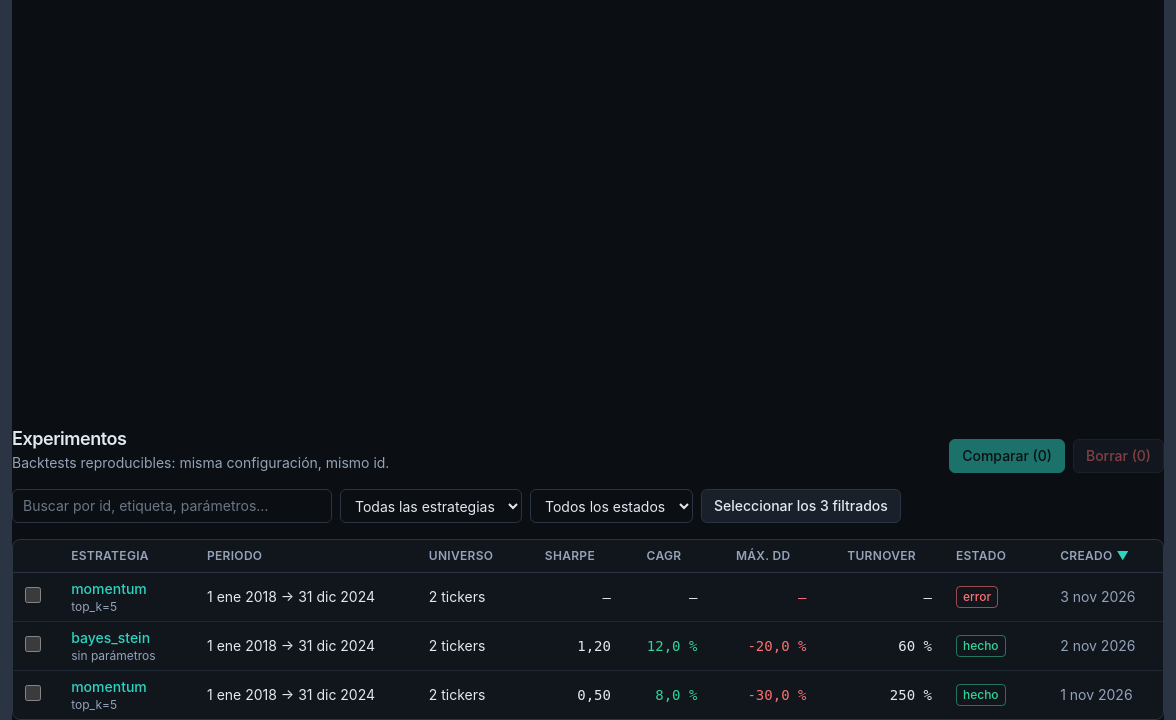
Test case: Experimentos › filtra por texto y por estado
(page scrolled)
Expected: the table named "Experimentos" is shown, [13, 540, 1163, 719]
Type "bayes" into the field labelled "Buscar" at (172, 506), box [12, 489, 332, 523]
(page scrolled)
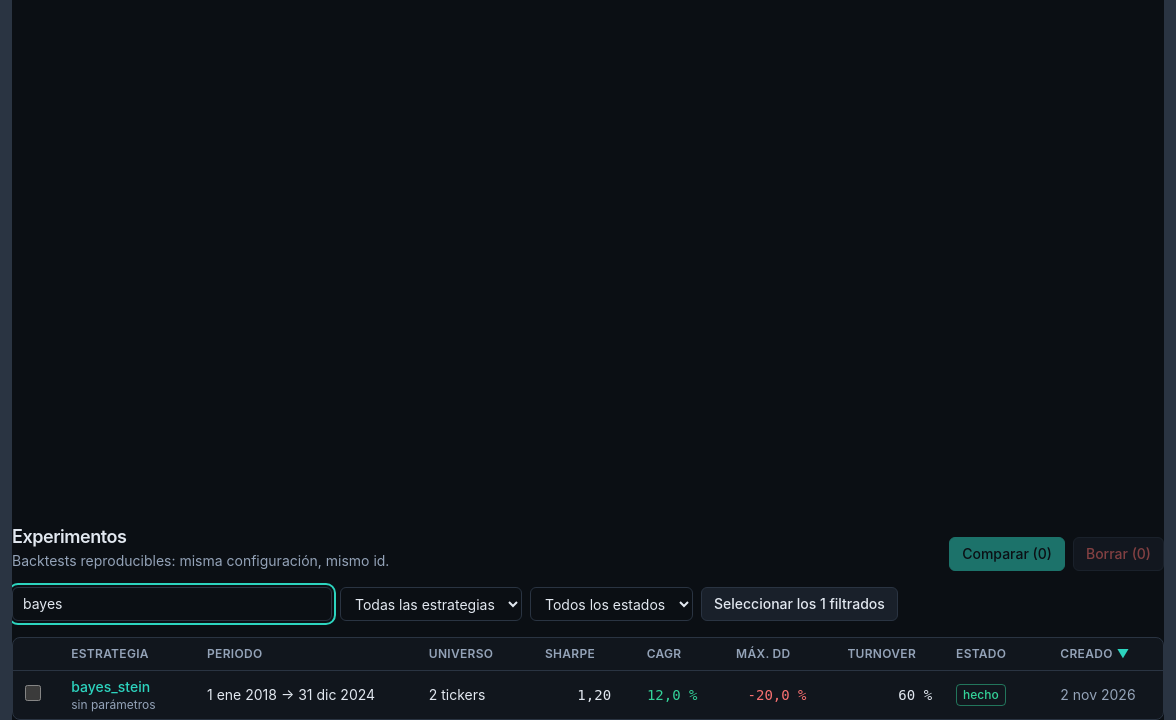
Clear the field named "Buscar" at (172, 604), box [12, 587, 332, 621]
(page scrolled)
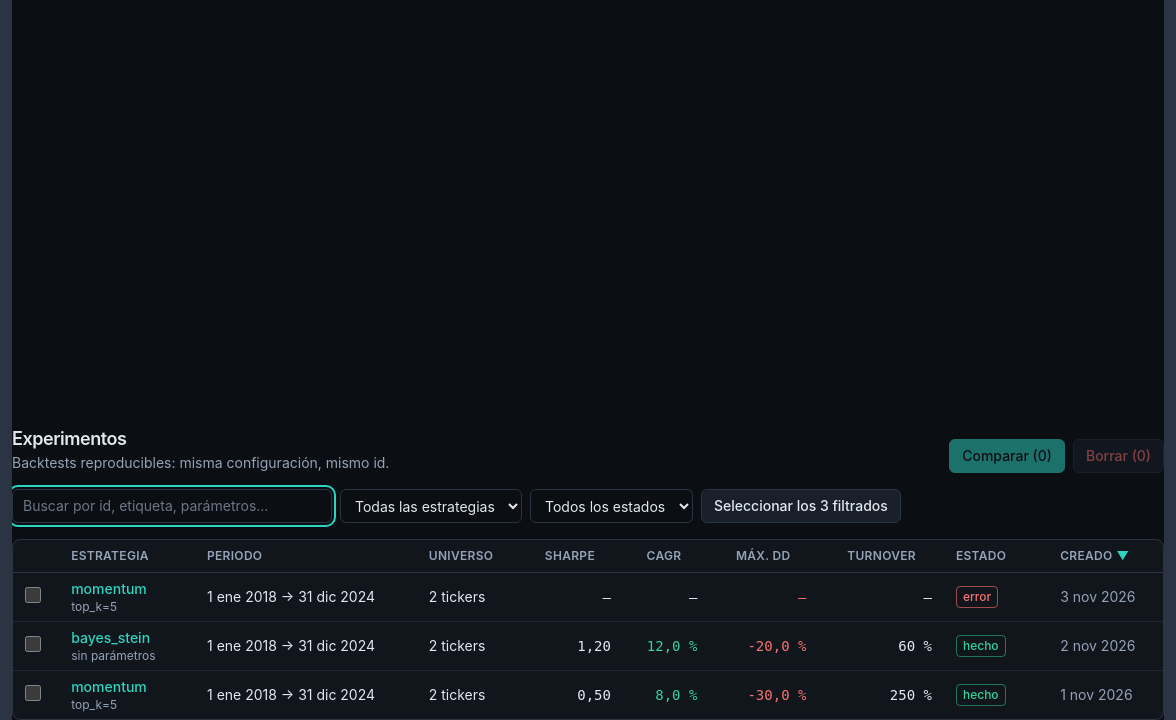
Select "error" in the 2nd dropdown named "Estado" at (612, 506), box [530, 489, 693, 523]
(page scrolled)
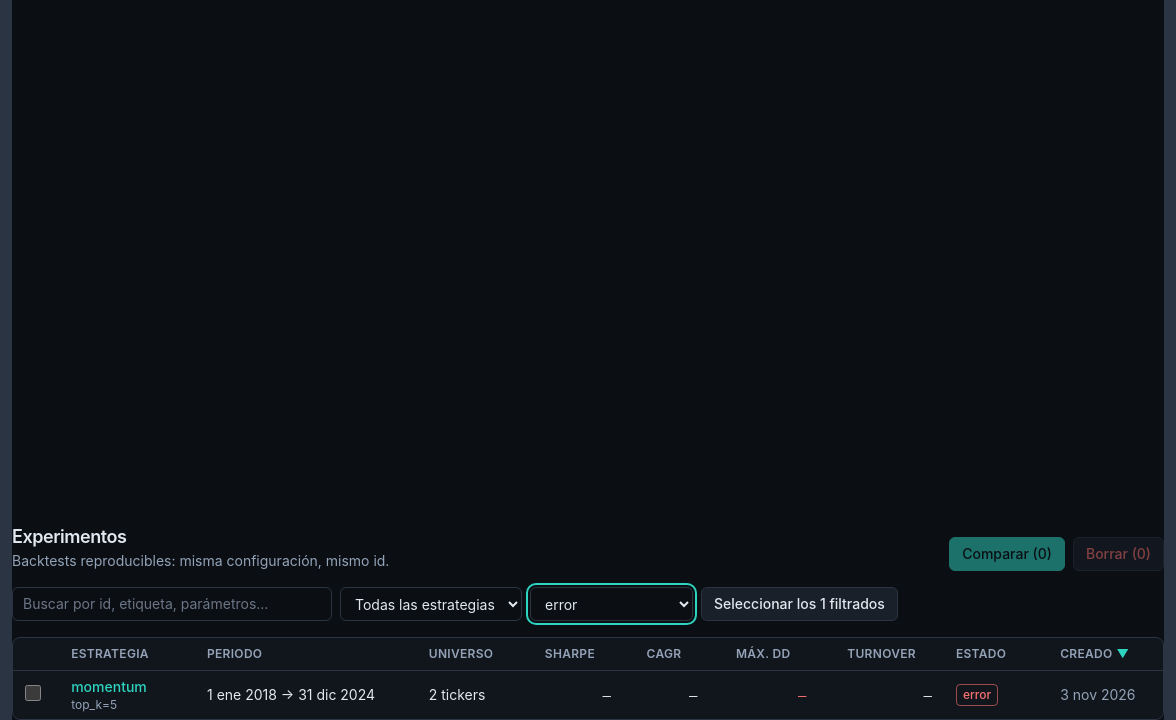
Type "nada-coincide" into the field labelled "Buscar" at (172, 604), box [12, 587, 332, 621]
(page scrolled)
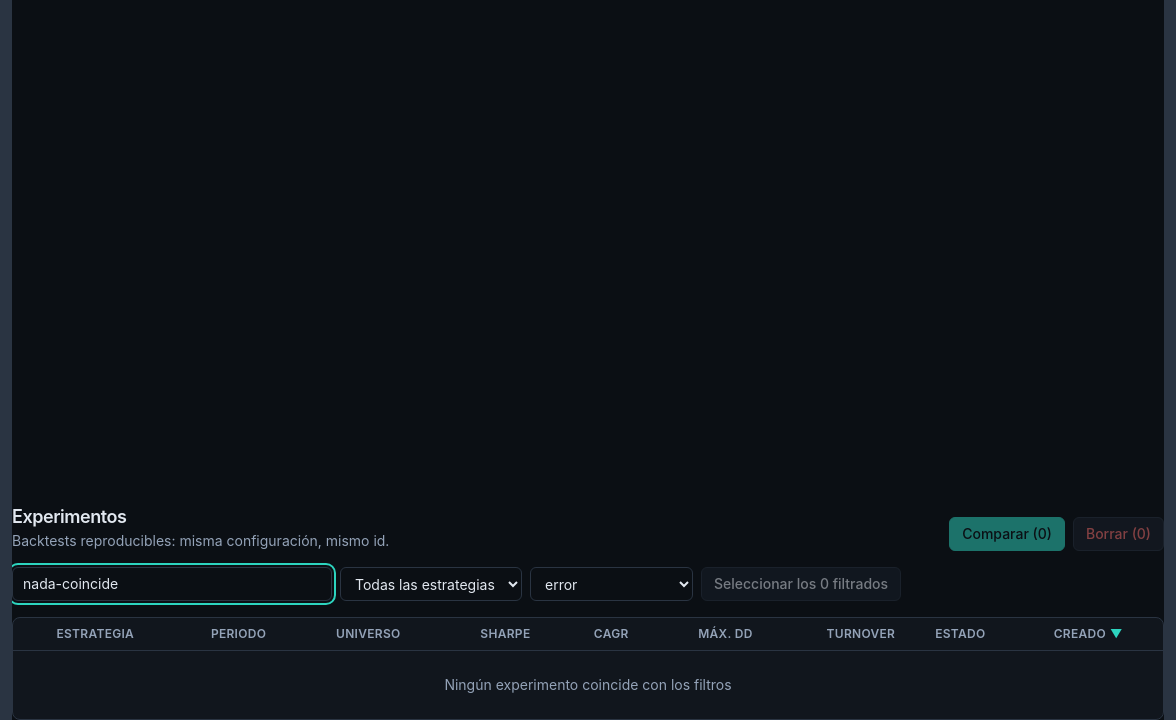
Now the text "Ningún experimento coincide con los filtros" is shown, box [13, 650, 1163, 719]
